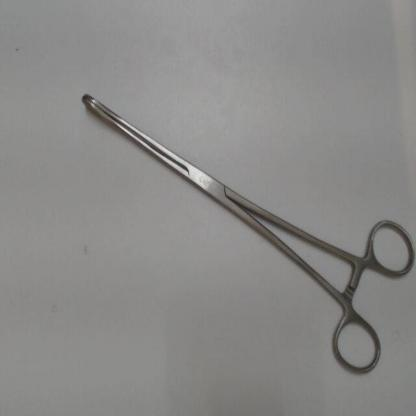Sponge Forceps: (74, 84, 416, 384)
